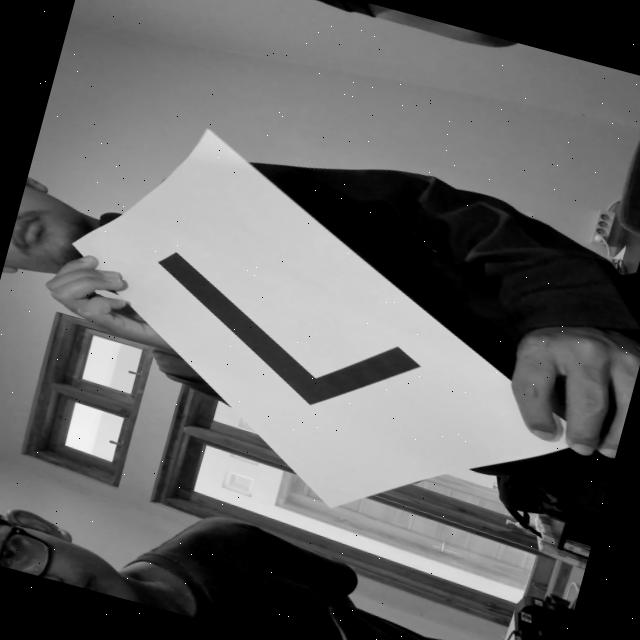l: (130, 230, 444, 440)
